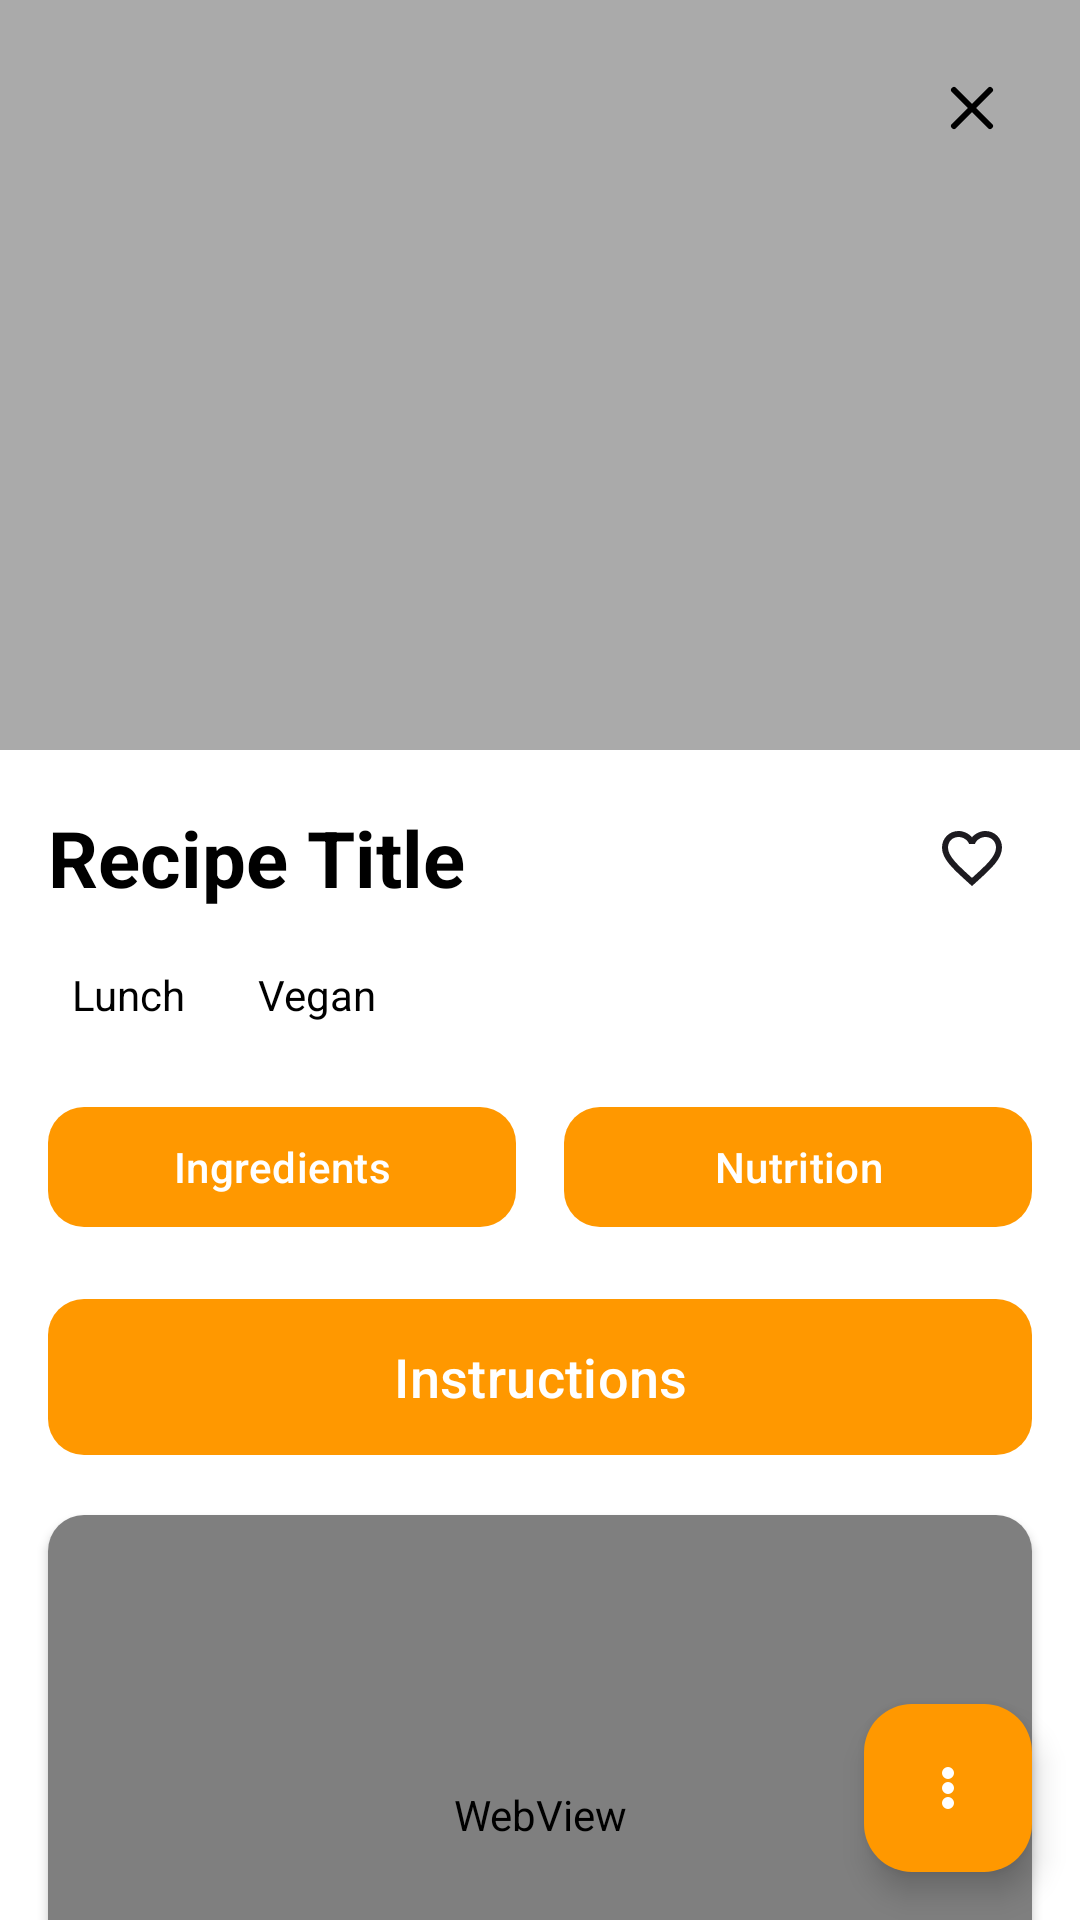

Screen size 1080 x 1920. Icon name, then its center in pixels as point (x, y):
close: point (972, 108)
detail: point (948, 1788)
favorite border: point (972, 858)
